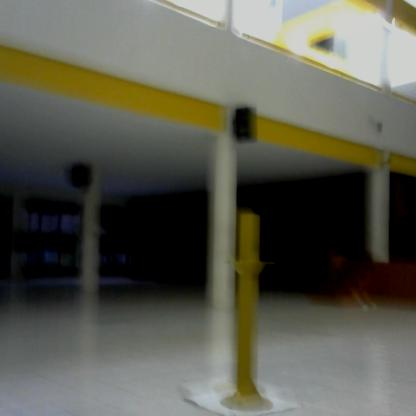pole: (218, 204, 284, 416)
